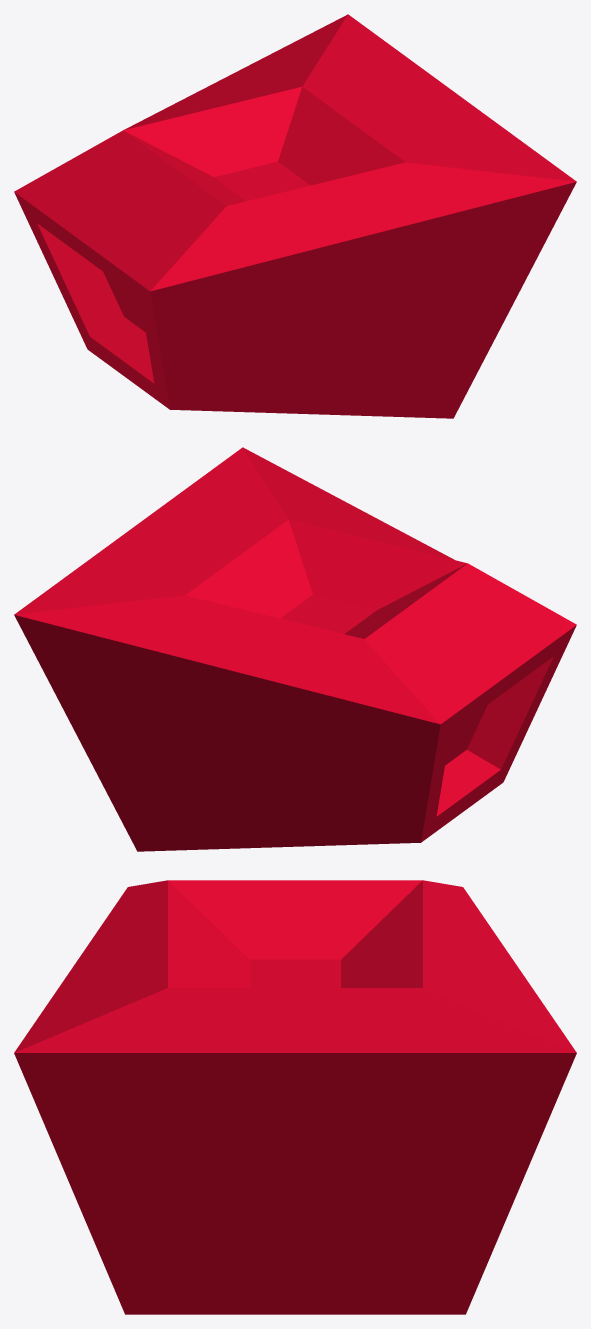
3 renders of one model, top to bottom at view 1: azimuth 30°, elevation 25°; view 2: azimuth 150°, elevation 25°; view 3: azimuth 270°, elevation 25°, orthographic. The views are drawn at different scales.
Parts seen in each view (by area): view 1: Cube; view 2: Cube; view 3: Cube.
Boxes of the visible parts, x1,y1,x2,y2 form: Cube: [14, 14, 576, 418]; Cube: [14, 447, 576, 851]; Cube: [14, 880, 576, 1314].
Size of the model in its own units: 3.17 by 2 by 3.31.
